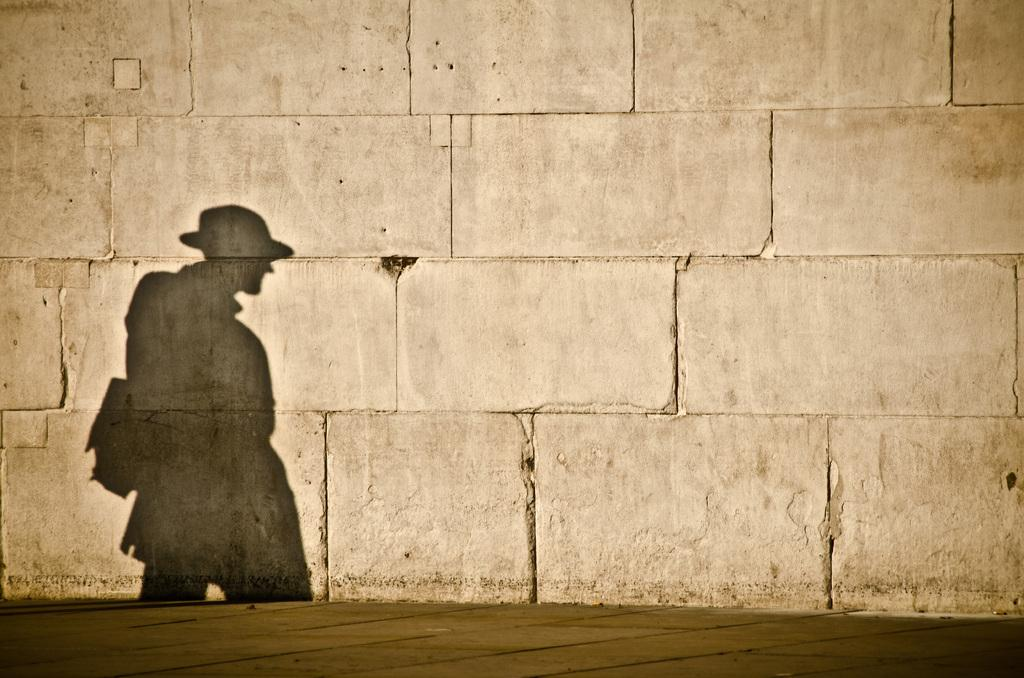Hat: (175, 204, 291, 256)
